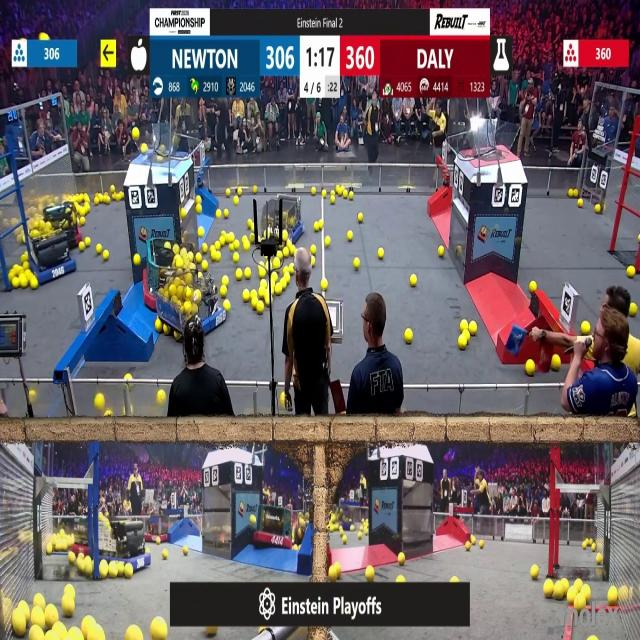ball_airborne: (154, 619, 168, 640), (133, 129, 140, 140), (39, 33, 48, 41), (140, 144, 148, 152), (162, 144, 167, 155)
ball_ground: (63, 586, 76, 615), (90, 628, 106, 640), (128, 627, 142, 640), (607, 588, 617, 606), (574, 593, 585, 608), (85, 561, 95, 577), (543, 582, 552, 599), (96, 394, 106, 409), (553, 354, 562, 370), (30, 627, 42, 639), (328, 566, 338, 580), (567, 587, 575, 604), (584, 586, 592, 603), (109, 563, 118, 578), (206, 625, 217, 637), (34, 594, 44, 607), (100, 563, 108, 579), (158, 391, 167, 405), (458, 336, 466, 351), (406, 328, 414, 343), (125, 565, 134, 578), (526, 360, 534, 374), (365, 566, 373, 580), (531, 565, 539, 579), (630, 304, 638, 318), (582, 322, 590, 334), (468, 322, 476, 334), (250, 296, 258, 308), (236, 270, 244, 281), (244, 269, 252, 280), (250, 288, 258, 299), (21, 278, 29, 289), (273, 260, 281, 271), (68, 553, 76, 564), (628, 267, 635, 279), (397, 554, 404, 566), (243, 289, 250, 301), (411, 274, 418, 286), (256, 303, 263, 315), (30, 279, 38, 289), (258, 269, 266, 279), (220, 286, 227, 297), (460, 320, 467, 331), (213, 250, 220, 261), (155, 320, 161, 332), (596, 555, 603, 565), (258, 288, 265, 298), (283, 274, 290, 284), (379, 248, 385, 259), (530, 281, 536, 292), (276, 284, 282, 295), (134, 254, 140, 265), (223, 301, 229, 312), (451, 575, 459, 583), (595, 205, 602, 214), (272, 273, 279, 282), (283, 248, 290, 257), (572, 188, 579, 197), (321, 280, 327, 290), (234, 252, 240, 262), (12, 279, 18, 289), (357, 213, 363, 223), (266, 296, 272, 306), (222, 276, 228, 286), (235, 241, 241, 251), (244, 242, 250, 252), (103, 250, 109, 260), (195, 252, 201, 262), (164, 324, 170, 334), (248, 219, 254, 229), (202, 262, 208, 272), (180, 208, 186, 218), (198, 226, 204, 236), (203, 244, 209, 254), (396, 575, 404, 582), (259, 279, 266, 287), (86, 238, 93, 246), (354, 257, 359, 268), (324, 238, 330, 247), (182, 545, 188, 554), (78, 242, 84, 251), (288, 266, 294, 275), (290, 245, 296, 254), (348, 232, 353, 242), (440, 247, 445, 257), (97, 244, 102, 254), (194, 206, 200, 214), (252, 185, 258, 193), (117, 190, 123, 198), (95, 198, 101, 206), (283, 267, 289, 275), (314, 221, 319, 230), (250, 235, 255, 244), (197, 197, 202, 206), (227, 231, 232, 240), (110, 185, 116, 192), (105, 412, 112, 418), (276, 250, 282, 257), (164, 551, 169, 559), (577, 200, 582, 208), (465, 541, 470, 549), (312, 245, 316, 255), (216, 210, 221, 218), (235, 198, 240, 206), (568, 188, 573, 196), (228, 241, 233, 249), (223, 210, 228, 218), (215, 242, 220, 250), (105, 197, 110, 205), (344, 190, 349, 198), (470, 536, 475, 544), (312, 256, 316, 265), (291, 543, 297, 549), (127, 375, 133, 381), (155, 537, 160, 544), (243, 236, 248, 243), (80, 217, 84, 225), (358, 534, 362, 542), (481, 539, 485, 547), (225, 188, 229, 196), (330, 197, 334, 205), (312, 187, 316, 195), (636, 236, 640, 244), (8, 272, 12, 280), (24, 264, 29, 270), (322, 190, 326, 197), (344, 536, 348, 543), (592, 543, 596, 550), (591, 636, 597, 640)
goal: (464, 121, 522, 160), (129, 128, 186, 162)
robot_blue: (159, 272, 229, 336), (26, 213, 77, 285), (110, 520, 152, 575), (264, 195, 306, 245)
robot_red: (260, 504, 300, 548), (145, 516, 172, 543), (68, 520, 88, 553)
